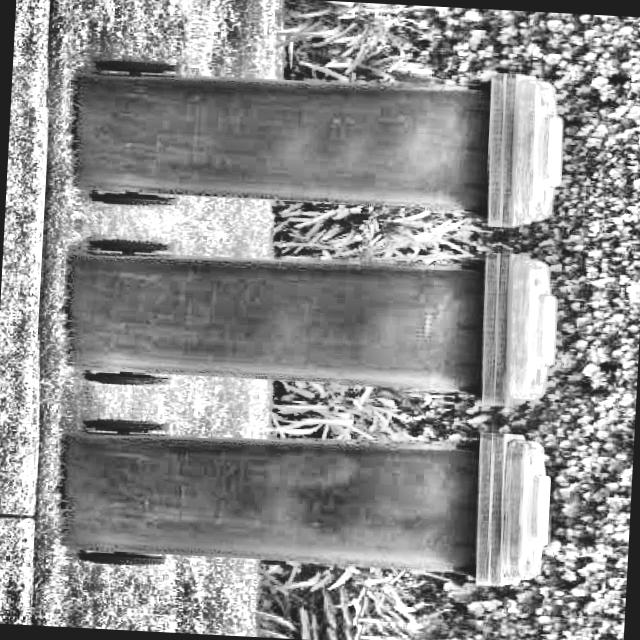Dustbin: (35, 394, 575, 602), (54, 35, 577, 247), (59, 222, 569, 420)
